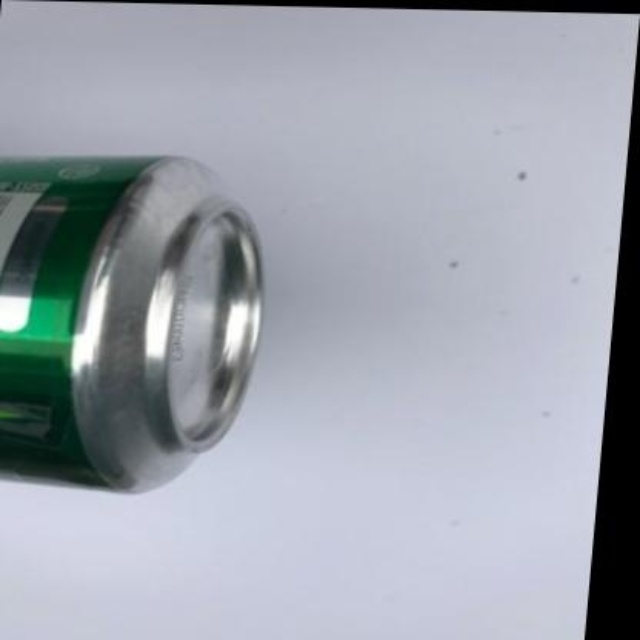trash: (0, 157, 262, 489)
